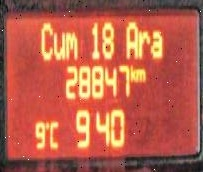0: (109, 107, 125, 147)
1: (88, 19, 100, 59)
2: (63, 63, 77, 98)
4: (94, 108, 109, 145), (102, 63, 117, 95)
7: (118, 63, 130, 97)
8: (100, 19, 113, 59), (89, 63, 102, 98), (77, 63, 90, 98)
9: (74, 106, 89, 150), (33, 120, 44, 148)
X: (123, 17, 137, 60), (39, 18, 52, 60), (149, 28, 164, 60), (53, 27, 65, 61), (65, 28, 77, 60), (138, 27, 149, 58), (49, 120, 58, 148), (134, 66, 146, 83), (129, 61, 134, 83)
